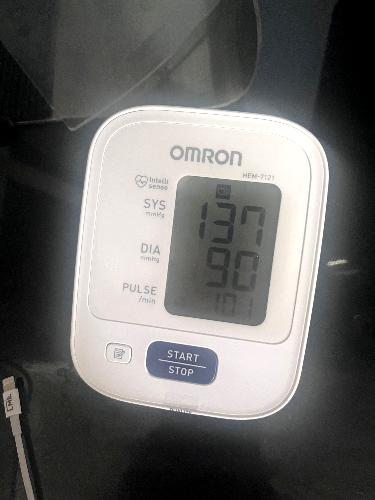bpm: (157, 170, 285, 331)
